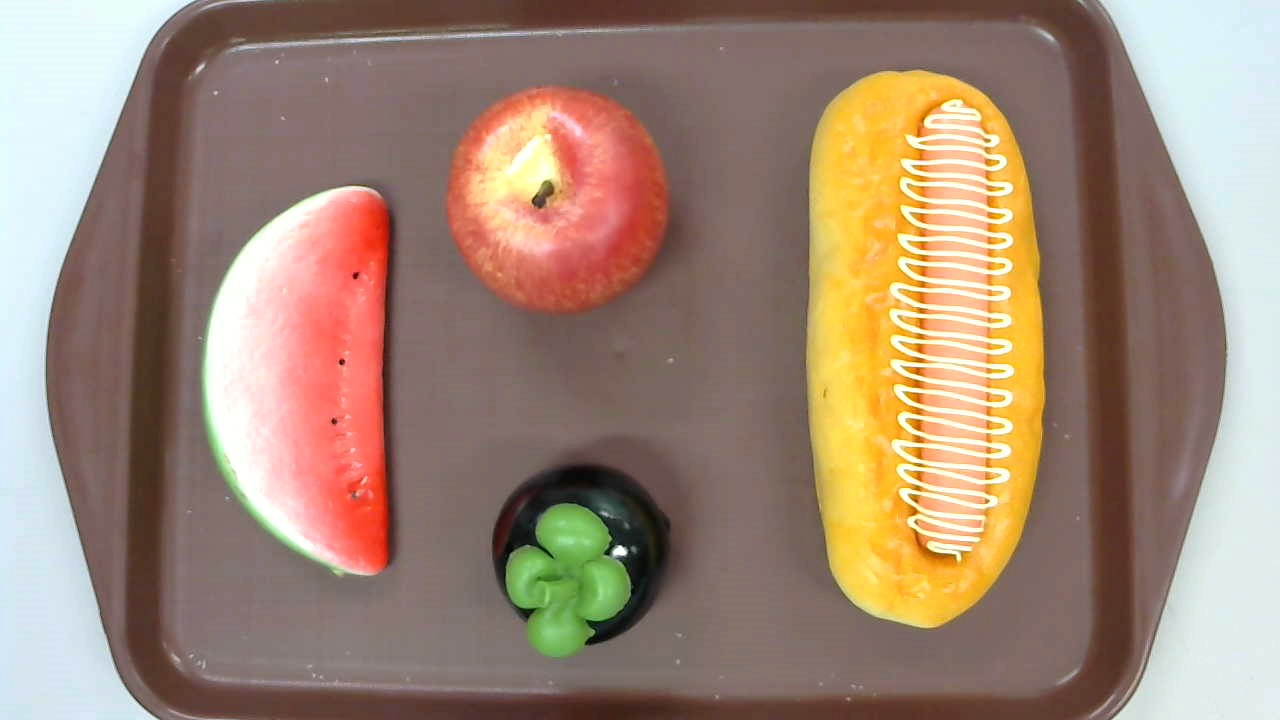hot dog: (807, 67, 1048, 629)
mangosteen: (492, 463, 672, 657)
red apple: (444, 84, 670, 321)
water melon: (197, 184, 391, 578)
